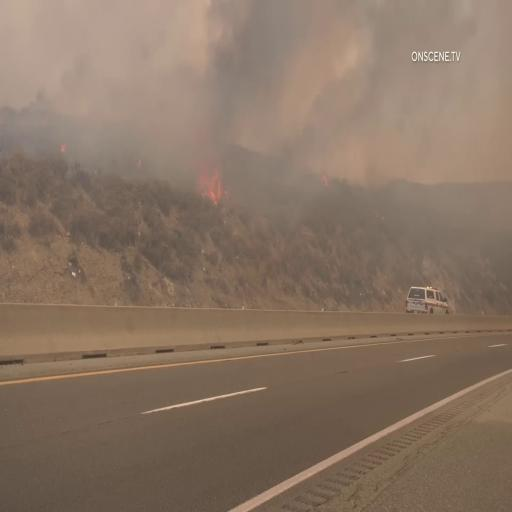fire: (199, 157, 231, 208)
